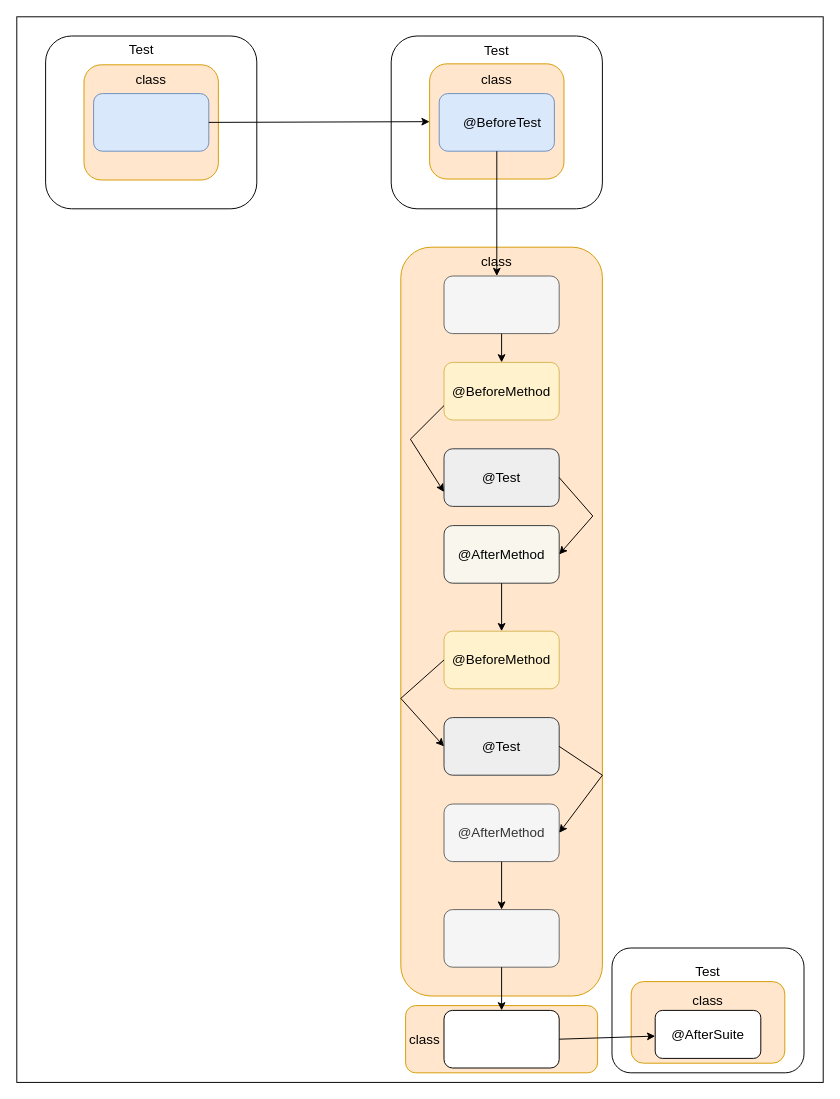
The diagram is 840 pixels wide and 1099 high, and some of its shapes have lost their labels. Each missing label, with the centre of its shape:
@AfterClass: point 501,938
@AfterTest: point 501,1038
@BeforeClass: point 501,304
@BeforeSuite: point 151,122
